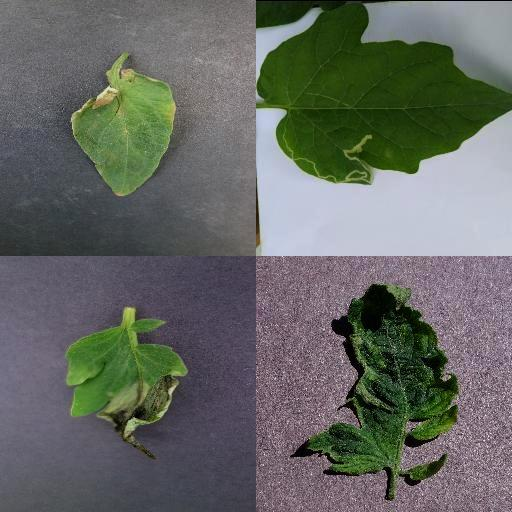Late Blight: (63, 311, 189, 465), (69, 67, 177, 201)
Leaf Miner: (256, 0, 512, 187)
Mosaic Virus: (302, 283, 460, 475)
